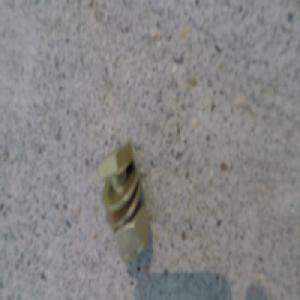BoltNutSet: (93, 141, 148, 257)
